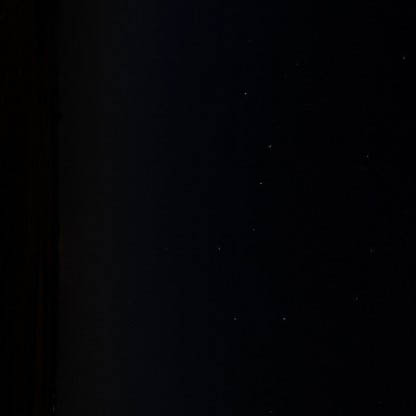Ursa Major: (277, 307, 296, 328), (256, 173, 273, 194), (215, 236, 231, 258), (263, 133, 278, 155), (226, 307, 241, 328), (239, 84, 253, 102), (248, 220, 261, 238)
